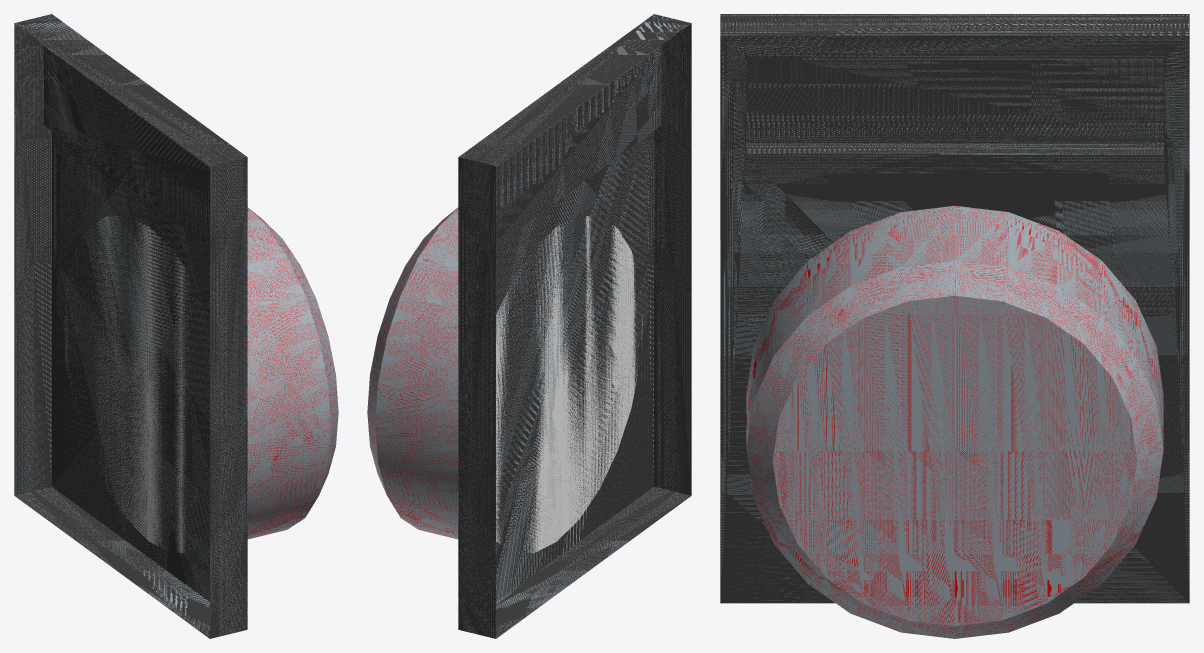
Rendered from Button.fbx.
The picture shows the model from 3 angles, left to right: view 1: azimuth 30°, elevation 25°; view 2: azimuth 150°, elevation 25°; view 3: azimuth 270°, elevation 25°; orthographic projection. The views are drawn at different scales.
Parts seen in each view (by area): view 1: Group2, Group3; view 2: Group2, Group3; view 3: Group3, Group2.
Boxes of the visible parts, x1,y1,x2,y2 form: Group2: (14,14,247,638); Group3: (64,207,338,552); Group2: (458,14,691,638); Group3: (367,207,642,552); Group3: (746,205,1163,638); Group2: (720,14,1189,603).
Size of the model in its own units: 1.27 by 3.81 by 2.86.
